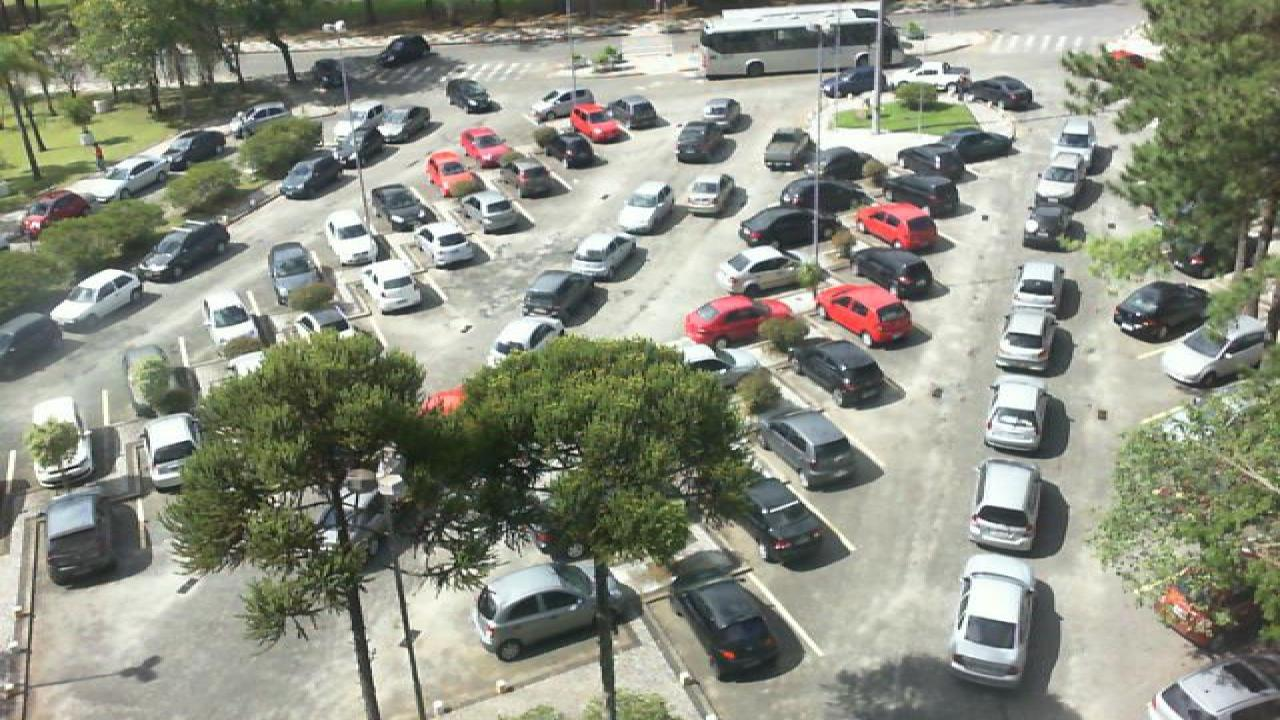Car: (472, 558, 598, 663), (944, 552, 1040, 688), (670, 572, 782, 682), (40, 488, 140, 588), (736, 476, 836, 564), (750, 410, 856, 490), (1142, 659, 1280, 720), (1162, 320, 1270, 391), (966, 456, 1044, 554), (788, 339, 886, 407), (24, 396, 96, 487), (812, 282, 914, 346), (1110, 280, 1212, 343), (138, 218, 230, 285), (682, 292, 792, 346), (48, 269, 142, 331), (982, 378, 1046, 452), (712, 249, 808, 297), (146, 413, 202, 494), (0, 310, 62, 382), (850, 245, 932, 298), (856, 202, 938, 252), (738, 208, 830, 252), (200, 287, 262, 352), (492, 316, 570, 366), (522, 266, 594, 318), (996, 310, 1054, 374), (880, 173, 964, 217), (80, 161, 168, 202), (566, 231, 640, 278), (926, 127, 1010, 167), (616, 180, 674, 236), (20, 192, 92, 236), (266, 242, 320, 298), (370, 182, 428, 234), (780, 179, 864, 214), (328, 209, 382, 263), (1022, 198, 1078, 250), (810, 143, 884, 182), (372, 262, 426, 315), (278, 158, 346, 200), (424, 150, 484, 197), (898, 148, 972, 185), (1012, 262, 1064, 313), (418, 224, 478, 268), (460, 189, 520, 233), (674, 118, 730, 163), (368, 101, 428, 143), (890, 65, 970, 96), (526, 86, 596, 120), (966, 75, 1036, 109), (328, 125, 386, 166), (818, 65, 890, 98), (542, 126, 598, 168), (506, 154, 560, 197), (458, 126, 512, 169), (570, 102, 626, 143), (762, 128, 814, 171), (1038, 170, 1088, 214), (168, 129, 232, 163), (674, 173, 726, 214), (1046, 144, 1096, 184), (446, 78, 496, 114), (374, 34, 430, 66), (230, 100, 292, 127), (1060, 115, 1100, 154), (620, 96, 660, 128), (702, 97, 742, 126)
